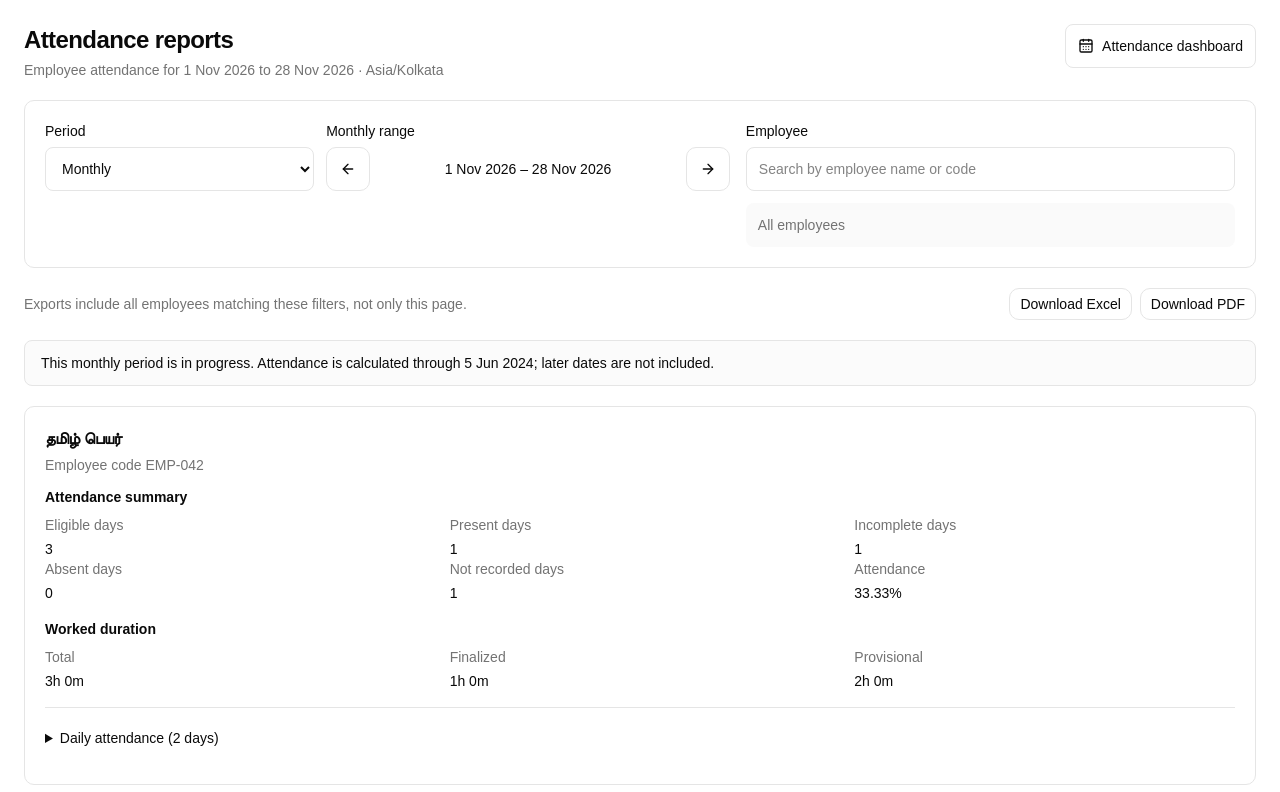
Test case: attendance report page › shows employee names, codes, avatar images, and safe initials
Step 1. Focus the dropdown named "Search employees" → (990, 169), box [746,147,1235,191]
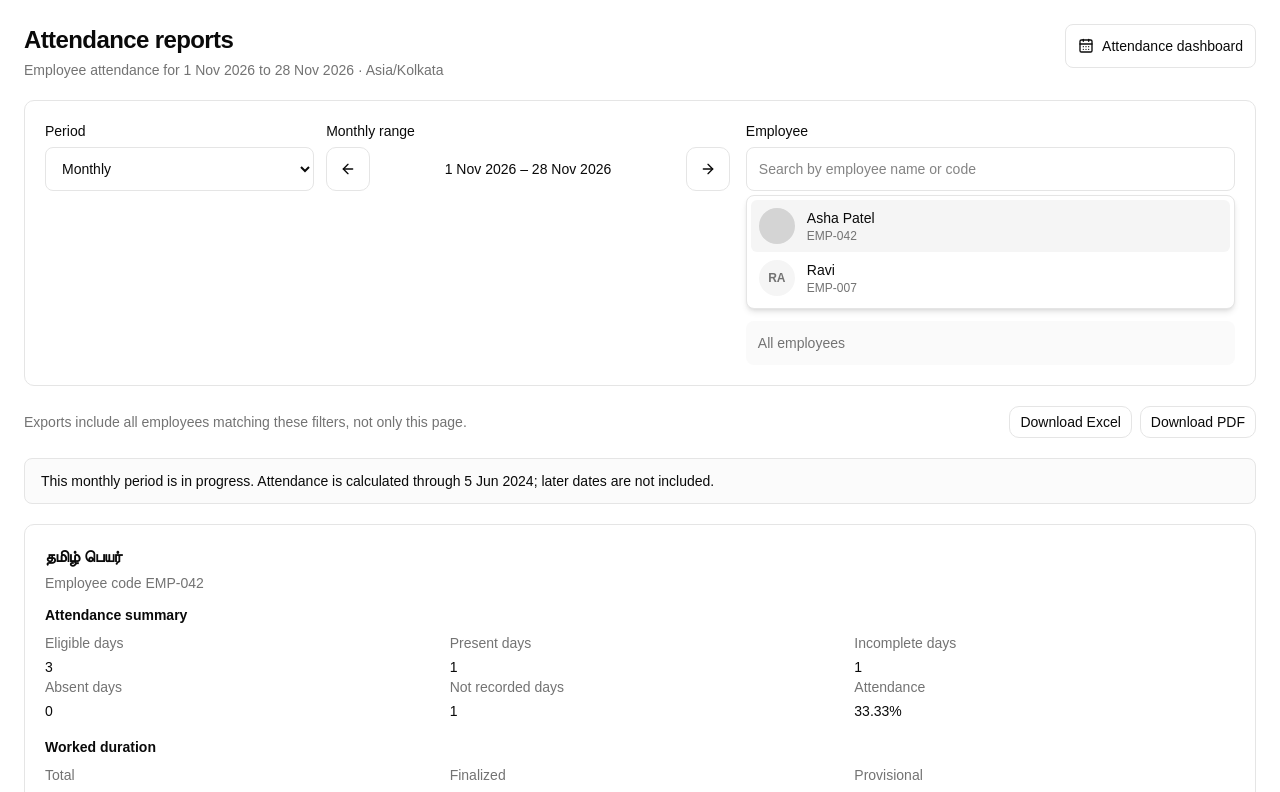
Result: the number of options is 2 at [751,200,1230,252]; [759,260,857,296]
Result: the text "Asha Patel" is shown at [807,210,874,226]
Result: the text "EMP-042" is shown at [807,229,857,243]
